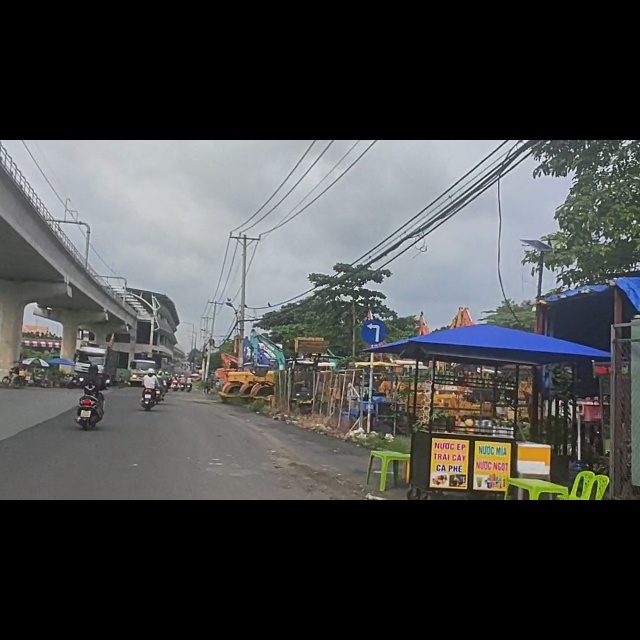bien_hieu_lenh: (361, 319, 387, 366)
